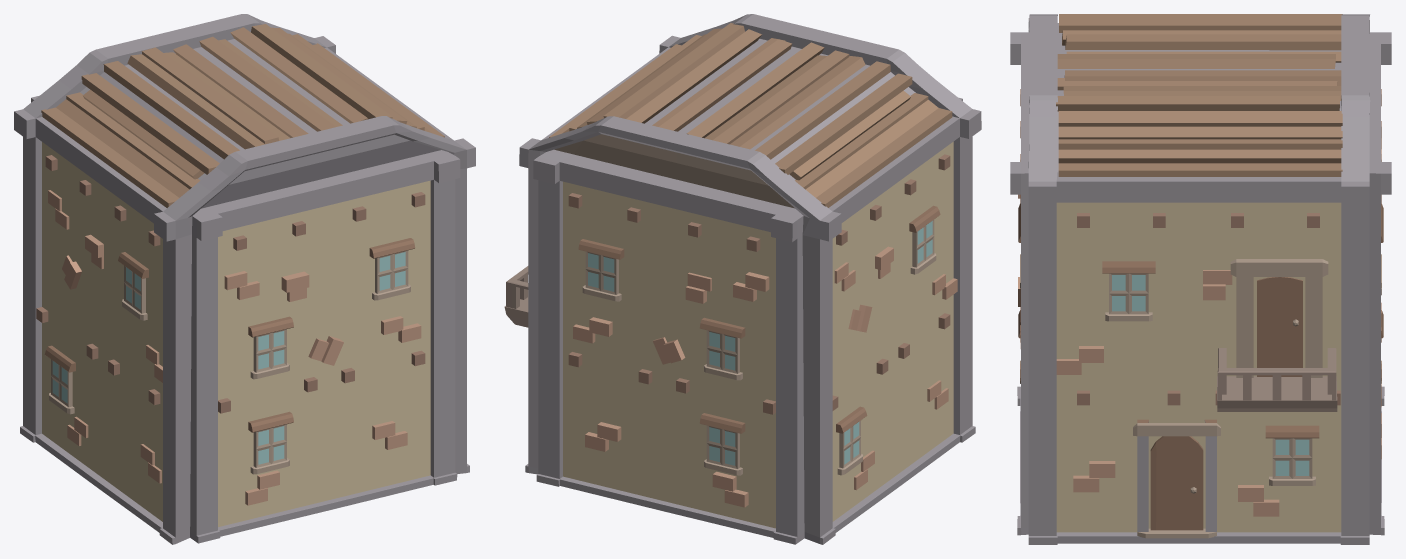
The model's file is huis01.fbx.
3 views of the same model, side by side, from view 1: azimuth 30°, elevation 25°; view 2: azimuth 150°, elevation 25°; view 3: azimuth 270°, elevation 25° (orthographic). The views are drawn at different scales.
Visible parts, largest first — view 1: Huis01; view 2: Huis01; view 3: Huis01.
Boxes of the visible parts, x1,y1,x2,y2 form: Huis01: (14,14,475,544); Huis01: (504,14,981,544); Huis01: (1010,14,1391,544).
Size of the model in its own units: 854 by 880 by 744.
